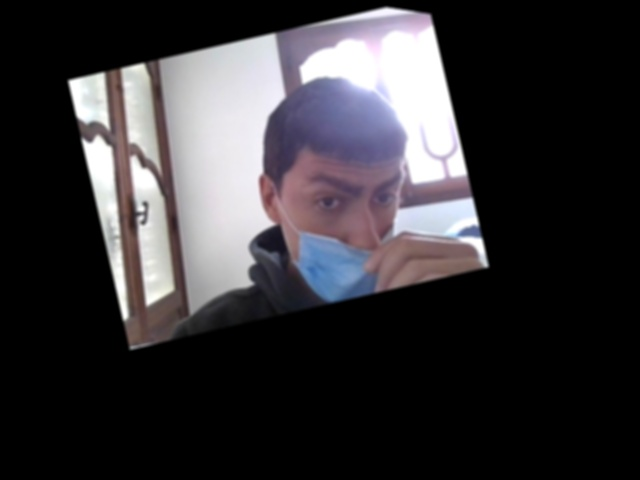mask_weared_incorrect: (273, 96, 414, 314)
